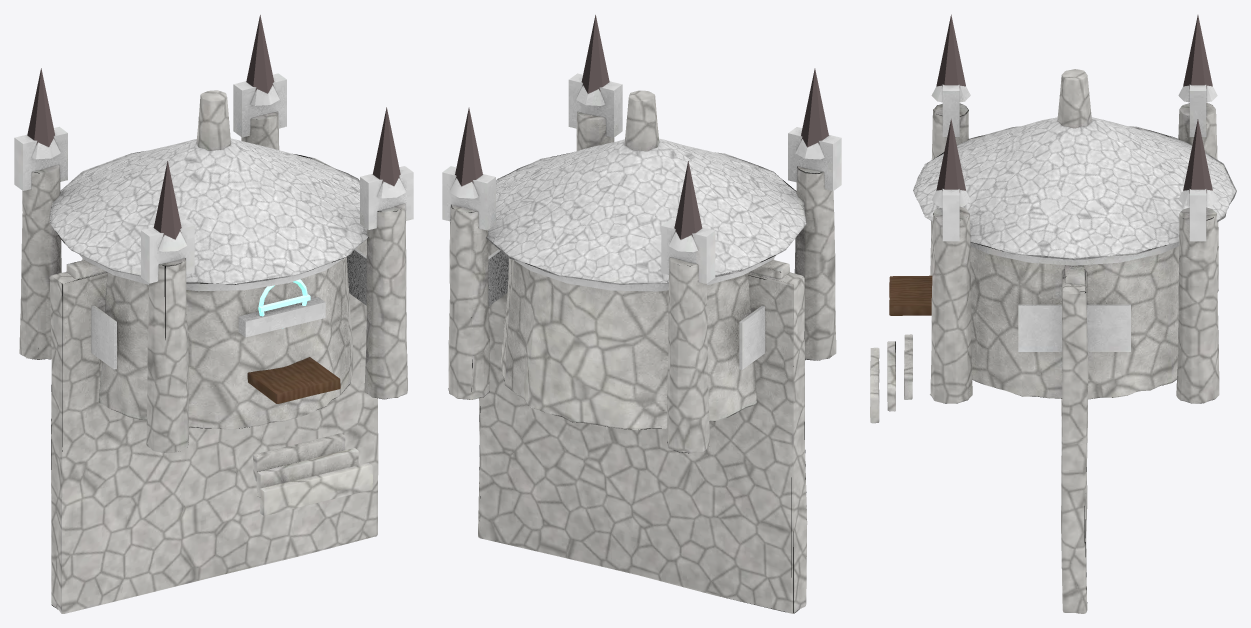
Rendered from barracks_ranged.glb.
3 renders of one model, left to right at view 1: azimuth 30°, elevation 25°; view 2: azimuth 150°, elevation 25°; view 3: azimuth 270°, elevation 25°, orthographic. The views are drawn at different scales.
Parts seen in each view (by area): view 1: body, extra_duskward, glow; view 2: body, extra_duskward; view 3: body, extra_duskward.
Boxes of the visible parts, x1=… form: body: x1=14, y1=73, x2=413, y2=613; extra_duskward: x1=27, y1=15, x2=400, y2=239; glow: x1=258, y1=279, x2=310, y2=328; body: x1=442, y1=73, x2=841, y2=613; extra_duskward: x1=455, y1=15, x2=828, y2=239; body: x1=870, y1=69, x2=1236, y2=613; extra_duskward: x1=936, y1=14, x2=1212, y2=193.
Size of the model in its own units: 6.38 by 9.29 by 6.52.
3 materials, 1 textured.
